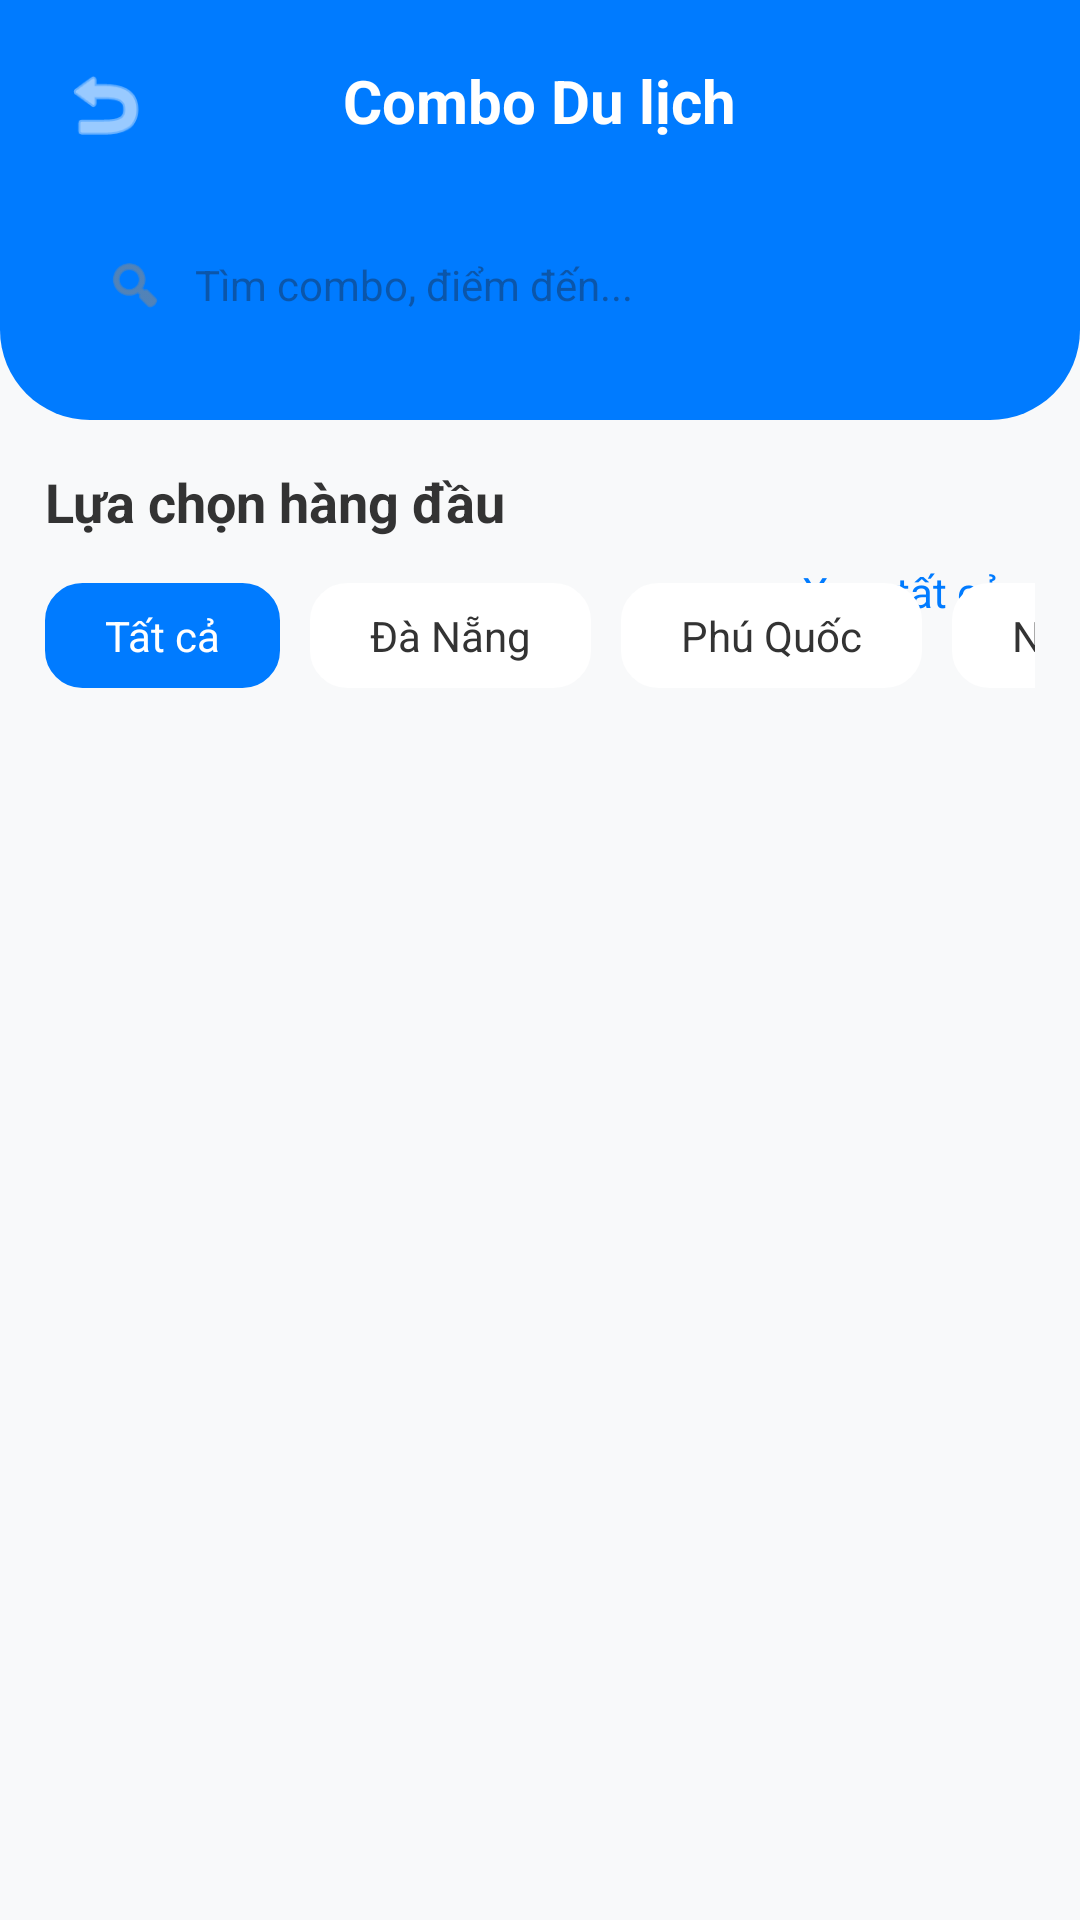

Where icons sit on this 1080*1920 app screen, as (left=x1, top=y1, right=x2, bottom=y2):
revert: (left=74, top=76, right=139, bottom=135)
search: (left=113, top=263, right=157, bottom=307)
